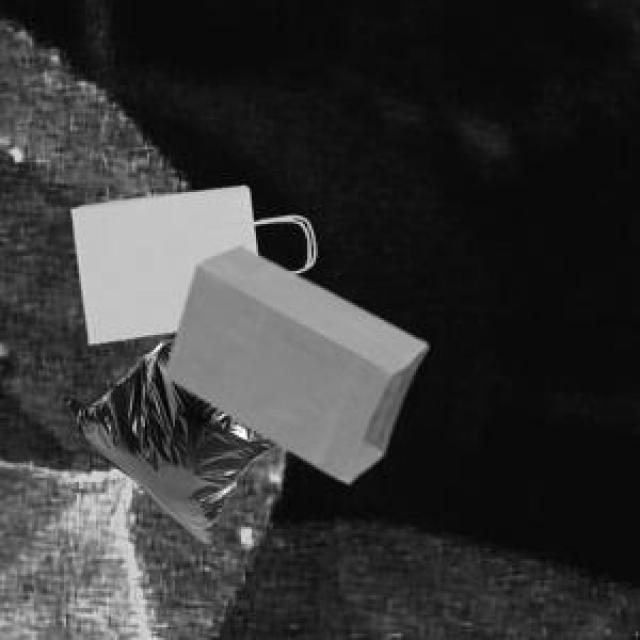miscellaneous trash: (58, 329, 273, 540)
paper: (162, 243, 422, 478), (67, 181, 294, 339)
